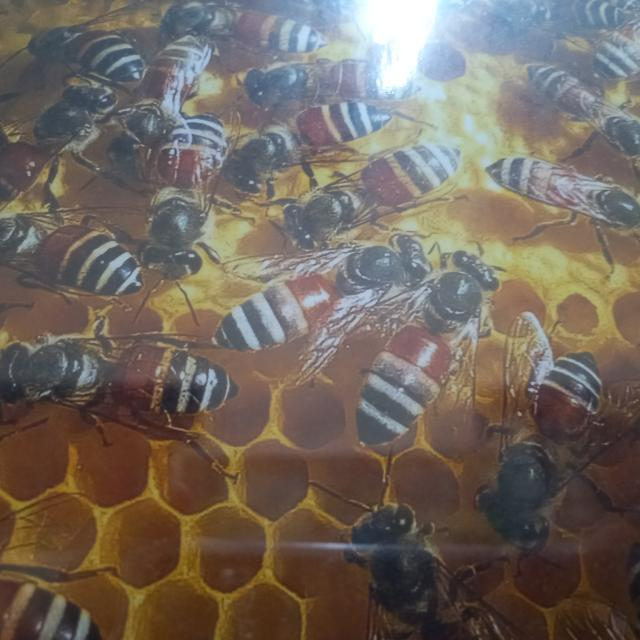honeybee: (496, 323, 600, 553), (301, 492, 468, 632), (224, 242, 390, 370), (32, 333, 218, 443), (414, 245, 496, 458), (283, 155, 472, 242), (467, 147, 640, 222), (0, 88, 125, 177), (0, 228, 146, 304), (156, 115, 219, 269), (21, 10, 158, 73), (215, 57, 392, 98), (494, 56, 606, 120)
